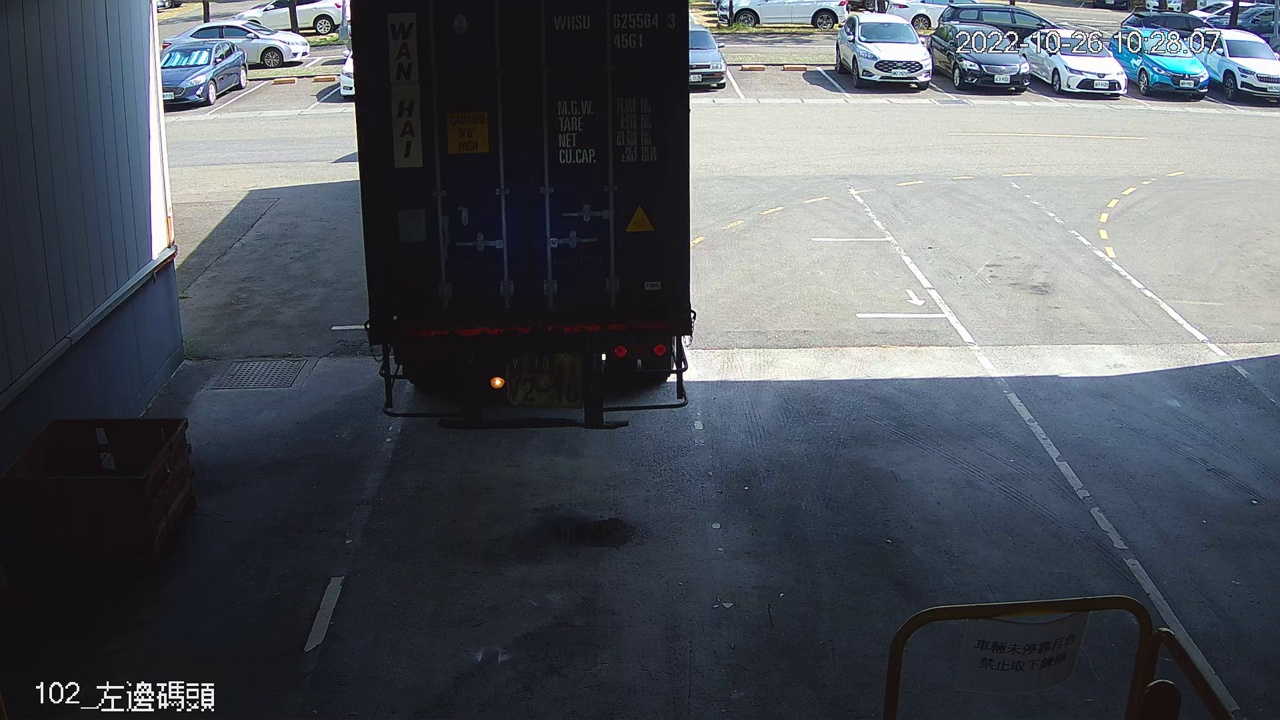container: (550, 6, 682, 55)
